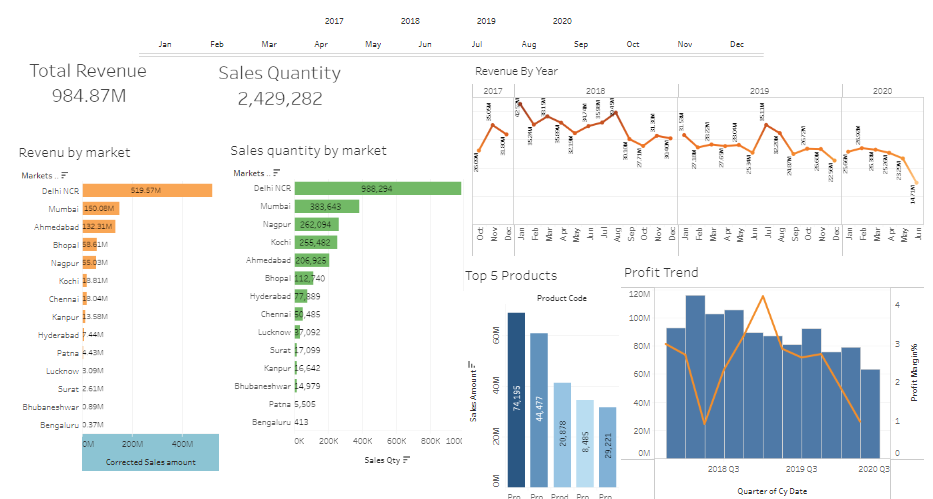

This screenshot's page, from the dashboard's own definition file:
{"tool":"powerbi","page":{"name":"Page 1","canvas":[1280,750],"ordinal":0},"visuals":[{"type":"card","fields":{"Values":["BaseMeasures.Revenue"]},"box":[1.5,138.5,279.7,150],"z":0},{"type":"card","fields":{"Values":["BaseMeasures.Sales Qty"]},"box":[281.6,138.3,278.6,150],"z":1000},{"type":"barChart","fields":{"Y":["Sum(sales transactions.Corrected Sales amount)"],"Category":["sales markets.markets_name"]},"box":[1.5,352.9,280.1,398.9],"z":1001},{"type":"barChart","fields":{"Category":["sales markets.markets_name"],"Y":["Sum(sales transactions.sales_qty)"]},"box":[279.3,352,281.6,400.6],"z":1002},{"type":"lineChart","fields":{"Y":["Sum(sales transactions.Corrected Sales amount)"],"Category":["sales date.date.Variation.Date Hierarchy.Year","sales date.date_yy_mmm"]},"box":[560.2,138.3,721.6,214.7],"z":1003},{"type":"slicer","fields":{"Values":["sales date.month_name"]},"box":[64.3,62.4,1152.8,39.7],"z":1006},{"type":"slicer","fields":{"Values":["sales date.year"]},"box":[419.5,15.1,442.2,47.2],"z":1007},{"type":"barChart","fields":{"Y":["Sum(sales transactions.sales_qty)"],"Category":["sales products.product_code"]},"box":[559.4,349.6,238.1,400.6],"z":1008},{"type":"lineStackedColumnComboChart","fields":{"Y":["Sum(sales transactions.Corrected Sales amount)"],"Category":["sales date.date.Variation.Date Hierarchy.Year","sales date.date.Variation.Date Hierarchy.Quarter"]},"box":[797,353,483,397],"z":1009}]}

Visuals, with their boxes on the page's 1280x750 design canvas (x1, y1, x2, y2). These are canvas units, not pixel positions in the 933x499 screenshot, which may show the page scaled, cropped or inside an application window:
card - BaseMeasures.Revenue: select_region(2, 138, 281, 288)
card - BaseMeasures.Sales Qty: select_region(282, 138, 560, 288)
barChart - Sum(sales transactions.Corrected Sales amount) x sales markets.markets_name: select_region(2, 353, 282, 752)
barChart - sales markets.markets_name x Sum(sales transactions.sales_qty): select_region(279, 352, 561, 753)
lineChart - Sum(sales transactions.Corrected Sales amount) x sales date.date.Variation.Date Hierarchy.Year: select_region(560, 138, 1282, 353)
slicer - sales date.month_name: select_region(64, 62, 1217, 102)
slicer - sales date.year: select_region(420, 15, 862, 62)
barChart - Sum(sales transactions.sales_qty) x sales products.product_code: select_region(559, 350, 798, 750)
lineStackedColumnComboChart - Sum(sales transactions.Corrected Sales amount) x sales date.date.Variation.Date Hierarchy.Year: select_region(797, 353, 1280, 750)
